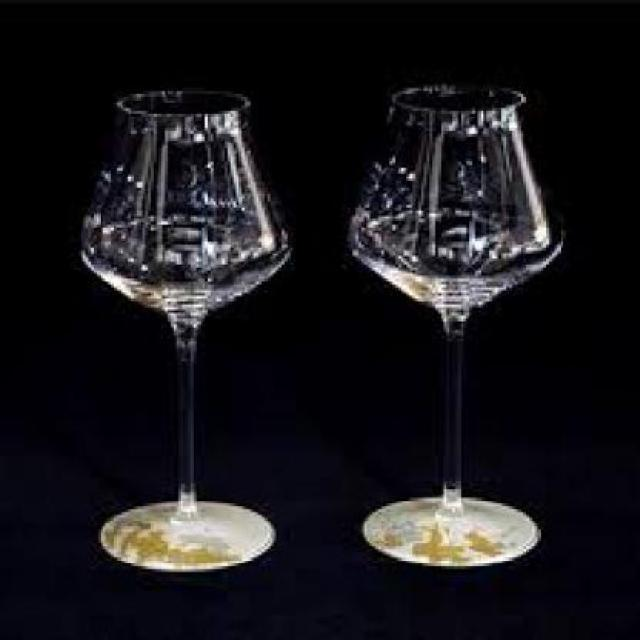kaca: (342, 80, 563, 566), (68, 85, 288, 569)
